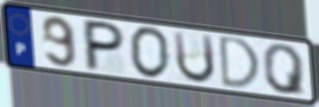9: (40, 15, 78, 69)
D: (218, 34, 263, 91)
O: (127, 25, 173, 82)
P: (82, 17, 127, 73)
Q: (260, 43, 309, 98)
U: (171, 29, 218, 86)
